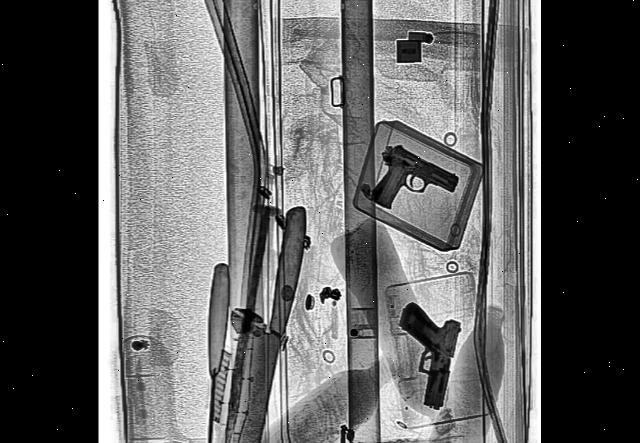Gun: (384, 292, 462, 418), (367, 137, 460, 240)
Knife: (209, 190, 310, 443), (194, 263, 231, 443)
